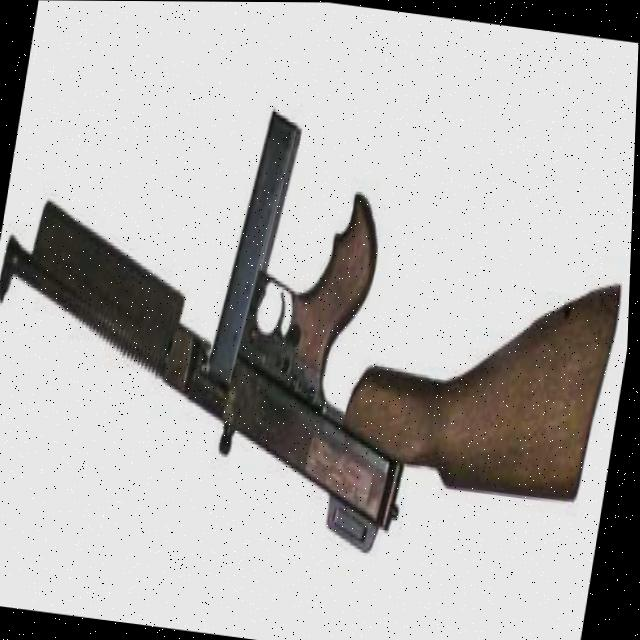firearm: (0, 77, 638, 583)
